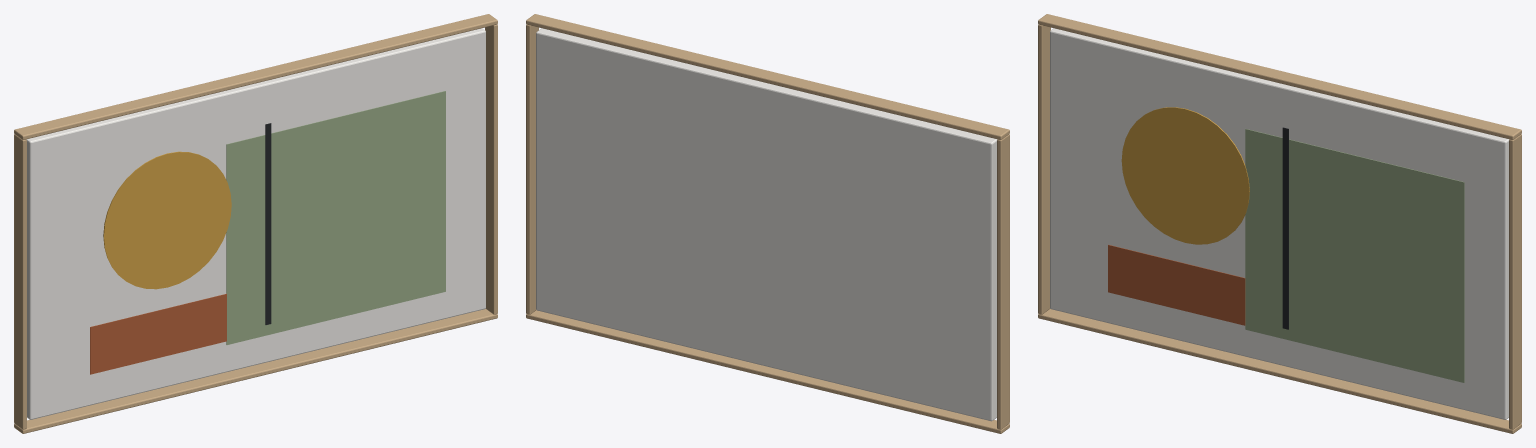
Rendered from canvasAbstract.glb.
3 renders of one model, left to right at view 1: azimuth 30°, elevation 25°; view 2: azimuth 150°, elevation 25°; view 3: azimuth 330°, elevation 25°, orthographic.
Parts seen in each view (by area): view 1: canvasAbstract; view 2: canvasAbstract; view 3: canvasAbstract.
Boxes of the visible parts, x1,y1,x2,y2 form: canvasAbstract: [14, 14, 497, 433]; canvasAbstract: [526, 14, 1009, 433]; canvasAbstract: [1038, 14, 1521, 433].
Size of the model in its own units: 1.5 by 0.9 by 0.05.
